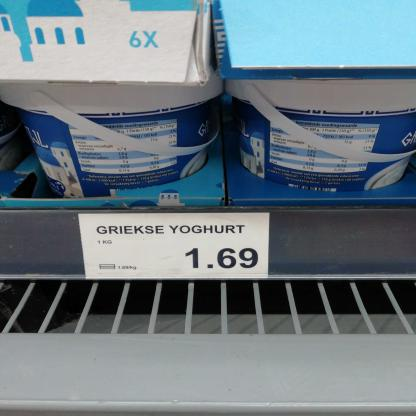prtg: (78, 214, 272, 281)
